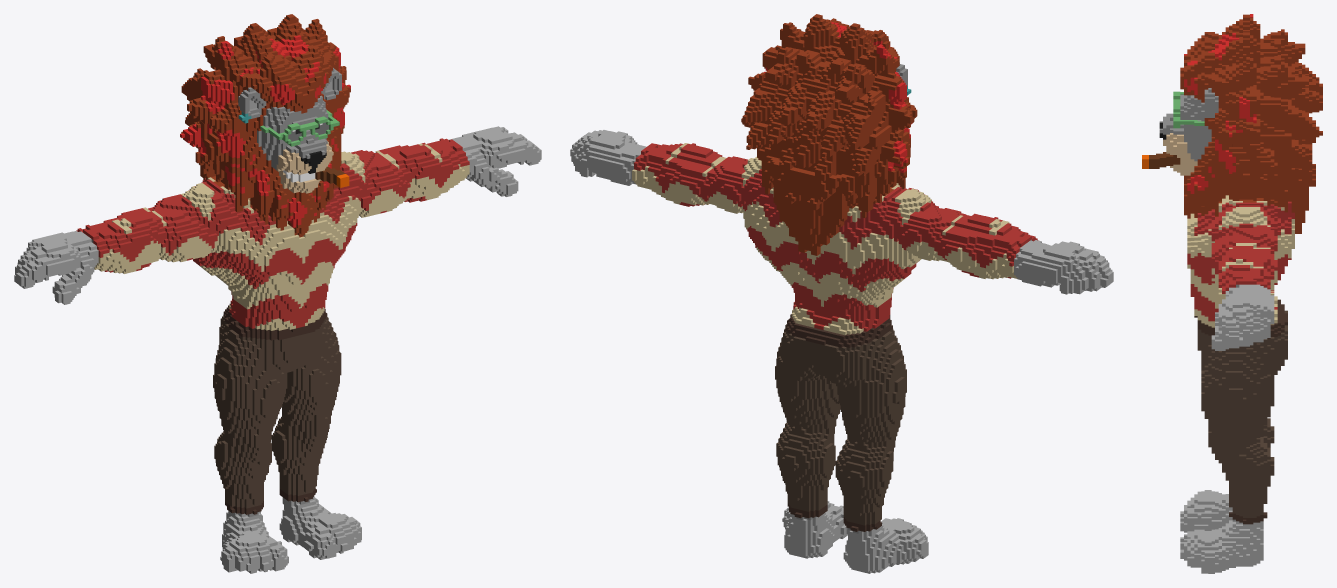
Rendered from 814-BBpRBlHJ.fbx.
3 renders of one model, left to right at view 1: azimuth 30°, elevation 25°; view 2: azimuth 150°, elevation 25°; view 3: azimuth 270°, elevation 25°, orthographic. The views are drawn at different scales.
Parts seen in each view (by area): view 1: cigar; view 2: cigar; view 3: cigar.
Part boxes in pixels (x1,y1,x2,y2): cigar: (14, 14, 541, 573); cigar: (570, 14, 1113, 573); cigar: (1142, 14, 1322, 573).
Size of the model in its own units: 17.2 by 16.5 by 5.2.
6 materials, 6 textured.
